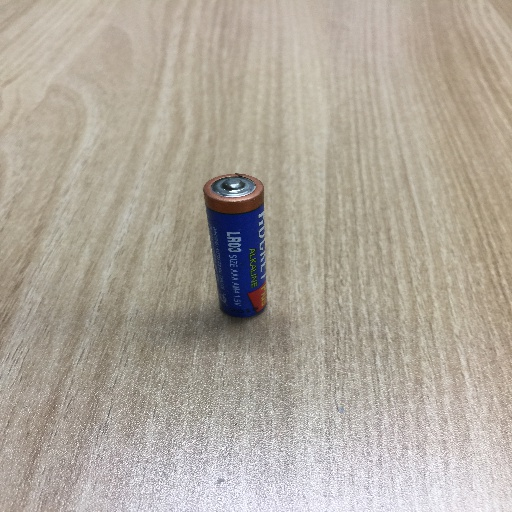Battery_0: (198, 168, 281, 330)
